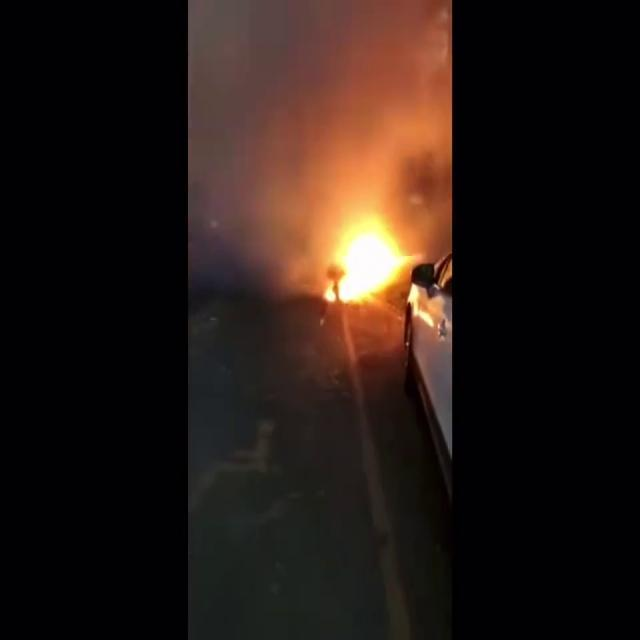Fire: (322, 186, 422, 324)
Smoke: (188, 0, 451, 228)
